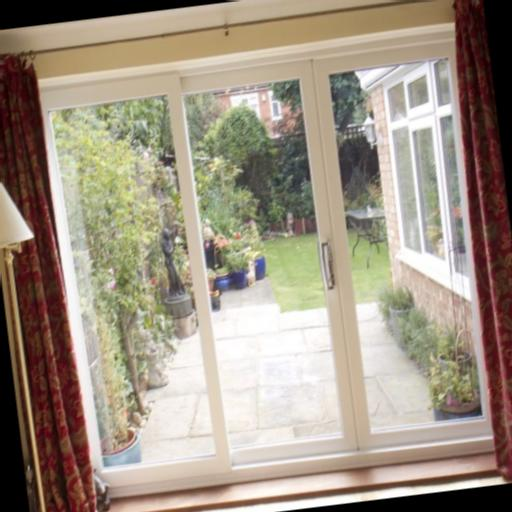Door: (36, 22, 506, 500)
